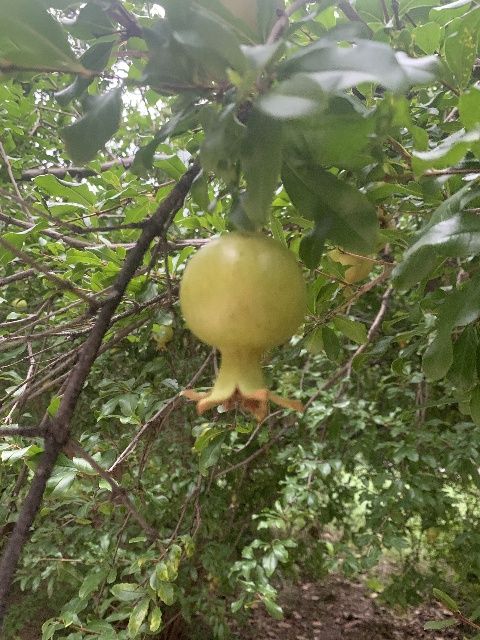mid-growth: (179, 232, 306, 421), (326, 249, 373, 297), (152, 324, 173, 351)
